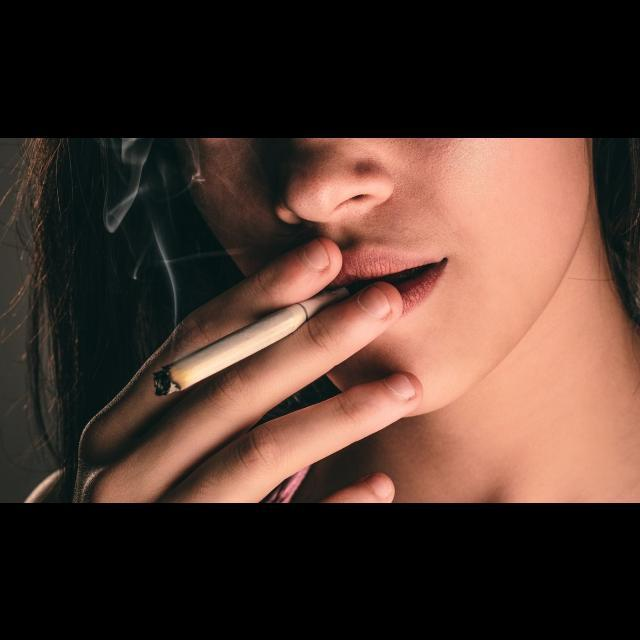rokok: (138, 285, 338, 401)
